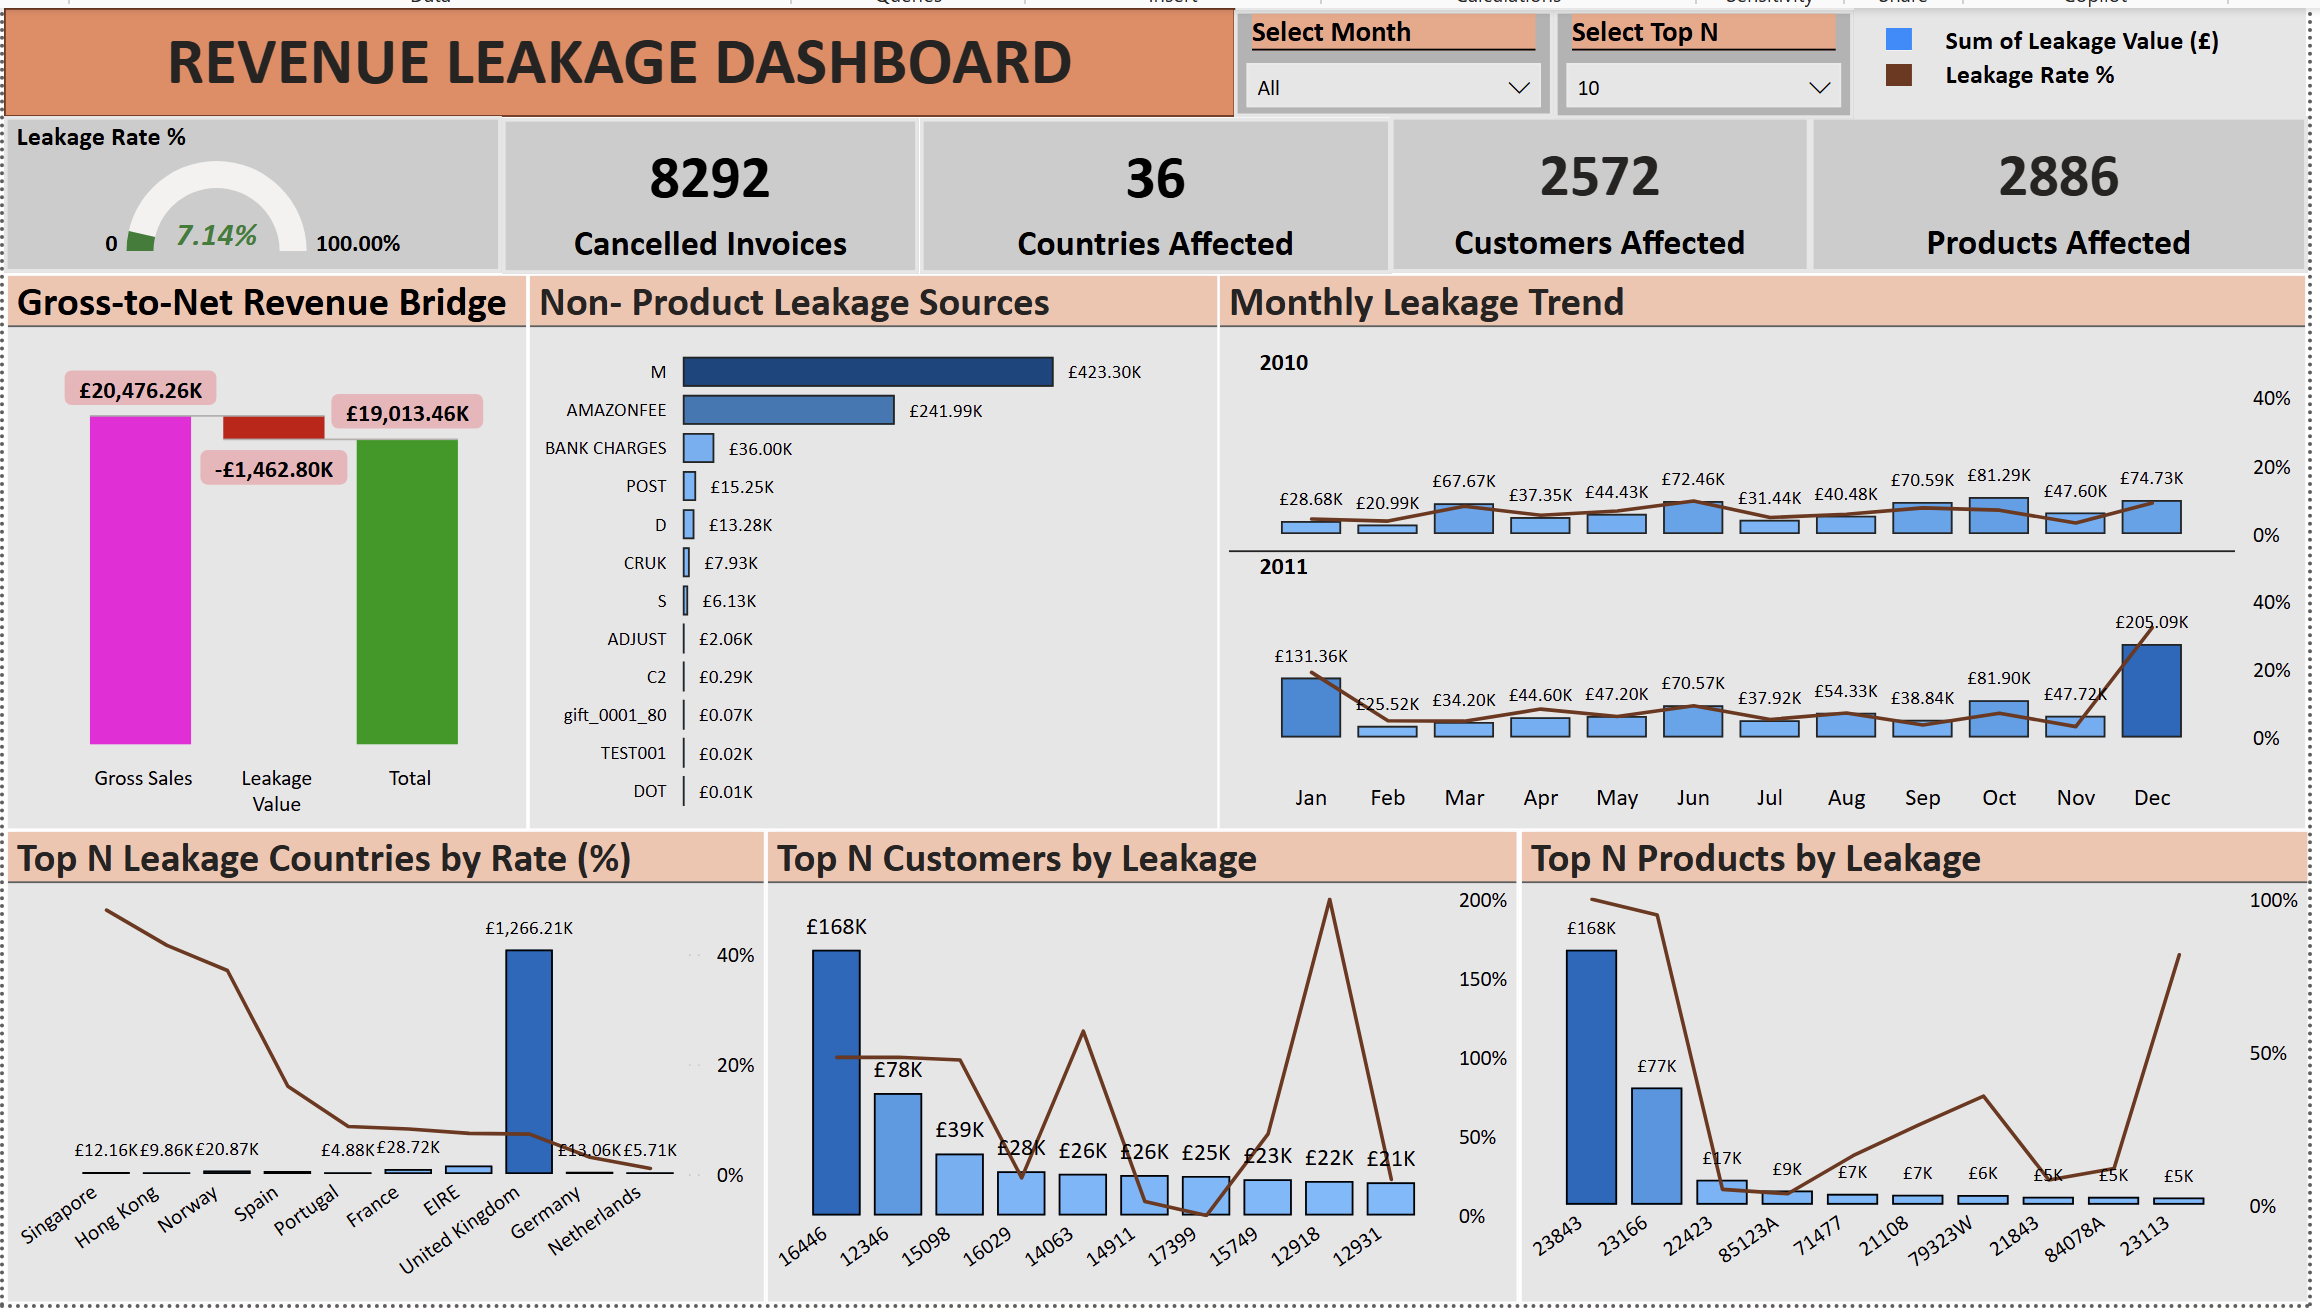

The dashboard page shown, as its layout file describes it:
{"tool":"powerbi","page":{"name":"Page 1","canvas":[1280,720],"ordinal":0},"visuals":[{"type":"textbox","box":[0,0,684,60.4],"z":0},{"type":"slicer","fields":{"Values":["All_Transactions.Start of Month (Month)"]},"box":[683.7,1.1,177.4,59.5],"z":1000},{"type":"waterfallChart","title":"Gross-to-Net Revenue Bridge","fields":{"Category":["Revenue_Bridge.Stage"],"Y":["All_Transactions.Waterfall Amount"]},"box":[1,147.5,289.8,309.2],"z":2000},{"type":"lineClusteredColumnComboChart","title":"Top N Customers by Leakage","fields":{"Category":["All_Transactions.Customer ID Label"],"Y":["All_Transactions.Sum of CancellationValue"],"Y2":["All_Transactions.Cancellation Rate %"]},"box":[422.9,456.7,417.8,263.2],"z":3000},{"type":"lineClusteredColumnComboChart","title":"Top N Leakage Countries by Rate (%) ","fields":{"Category":["All_Transactions.Country"],"Y":["All_Transactions.Sum of CancellationValue"],"Y2":["All_Transactions.Cancellation Rate %"]},"box":[1,456.7,421.9,263.2],"z":4000},{"type":"lineStackedColumnComboChart","title":"Top N Products by Leakage","fields":{"Category":["All_Transactions.StockCode"],"Y":["All_Transactions.Sum of CancellationValue"],"Y2":["All_Transactions.Cancellation Rate %"]},"box":[841.7,456.7,438.3,263.2],"z":5000},{"type":"lineStackedColumnComboChart","title":"Monthly Leakage Trend","fields":{"Category":["All_Transactions.Start of Month (Month)"],"Rows":["All_Transactions.Start of Month (Year)"],"Y":["All_Transactions.Sum of CancellationValue"],"Y2":["All_Transactions.Cancellation Rate %"]},"box":[674.8,147.5,605.2,309.2],"z":6000},{"type":"card","fields":{"Values":["All_Transactions.Cencelled Invoices"]},"box":[277,60.6,231.5,86.5],"z":7000},{"type":"clusteredBarChart","title":"Non- Product Leakage Sources","fields":{"Category":["All_Transactions.StockCode"],"Y":["All_Transactions.Sum of CancellationValue"]},"box":[290.8,147.5,384,309.2],"z":8000},{"type":"card","fields":{"Values":["All_Transactions.Countries Affected"]},"box":[508.5,60.6,261.8,86.5],"z":9000},{"type":"card","fields":{"Values":["All_Transactions.Customers Affected"]},"box":[770,60.4,233.5,87],"z":10000},{"type":"card","fields":{"Values":["All_Transactions.Stocks Affected"]},"box":[1003.5,60.4,276.5,87],"z":11000},{"type":"gauge","title":"Leakage Rate %","fields":{"MaxValue":["All_Transactions.Gauge maximum"],"MinValue":["All_Transactions.Gauge minimum"],"Y":["All_Transactions.Cancellation Rate %"]},"box":[0,60.4,276.5,87],"z":12000},{"type":"slicer","fields":{"Values":["Top N.Top N"]},"box":[861.1,1.1,166.6,60.6],"z":13000},{"type":"textbox","box":[1028.1,0,250.9,60.4],"z":14000},{"type":"shape","box":[1045.5,11.3,14.3,12.3],"z":15000},{"type":"shape","box":[1045.5,30.7,14.3,12.3],"z":16000}]}

Visuals, with their boxes on the page's 1280x720 design canvas (x1, y1, x2, y2). These are canvas units, not pixel positions in the 2320x1312 screenshot, which may show the page scaled, cropped or inside an application window:
textbox: [x1=0, y1=0, x2=684, y2=60]
slicer - All_Transactions.Start of Month (Month): [x1=684, y1=1, x2=861, y2=61]
"Gross-to-Net Revenue Bridge" waterfallChart: [x1=1, y1=148, x2=291, y2=457]
"Top N Customers by Leakage" lineClusteredColumnComboChart: [x1=423, y1=457, x2=841, y2=720]
"Top N Leakage Countries by Rate (%) " lineClusteredColumnComboChart: [x1=1, y1=457, x2=423, y2=720]
"Top N Products by Leakage" lineStackedColumnComboChart: [x1=842, y1=457, x2=1280, y2=720]
"Monthly Leakage Trend" lineStackedColumnComboChart: [x1=675, y1=148, x2=1280, y2=457]
card - All_Transactions.Cencelled Invoices: [x1=277, y1=61, x2=508, y2=147]
"Non- Product Leakage Sources" clusteredBarChart: [x1=291, y1=148, x2=675, y2=457]
card - All_Transactions.Countries Affected: [x1=508, y1=61, x2=770, y2=147]
card - All_Transactions.Customers Affected: [x1=770, y1=60, x2=1004, y2=147]
card - All_Transactions.Stocks Affected: [x1=1004, y1=60, x2=1280, y2=147]
"Leakage Rate %" gauge: [x1=0, y1=60, x2=276, y2=147]
slicer - Top N.Top N: [x1=861, y1=1, x2=1028, y2=62]
textbox: [x1=1028, y1=0, x2=1279, y2=60]
shape: [x1=1046, y1=11, x2=1060, y2=24]
shape: [x1=1046, y1=31, x2=1060, y2=43]
